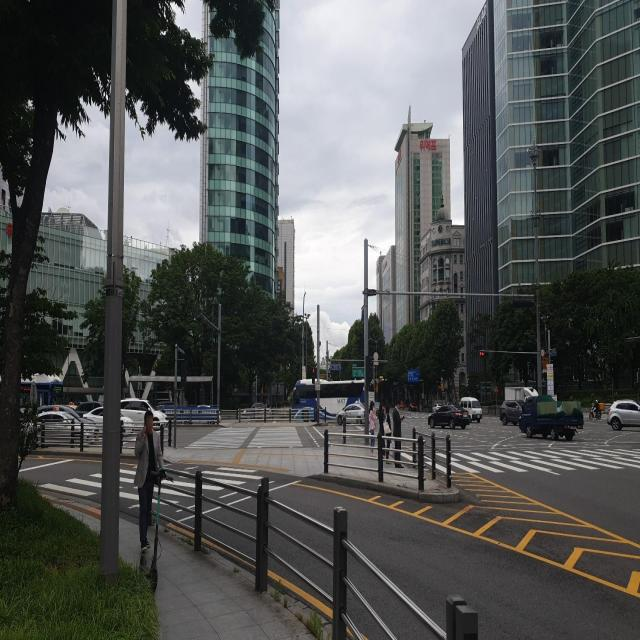횡단보도: (36, 463, 265, 511), (426, 443, 640, 476), (186, 422, 305, 450)
